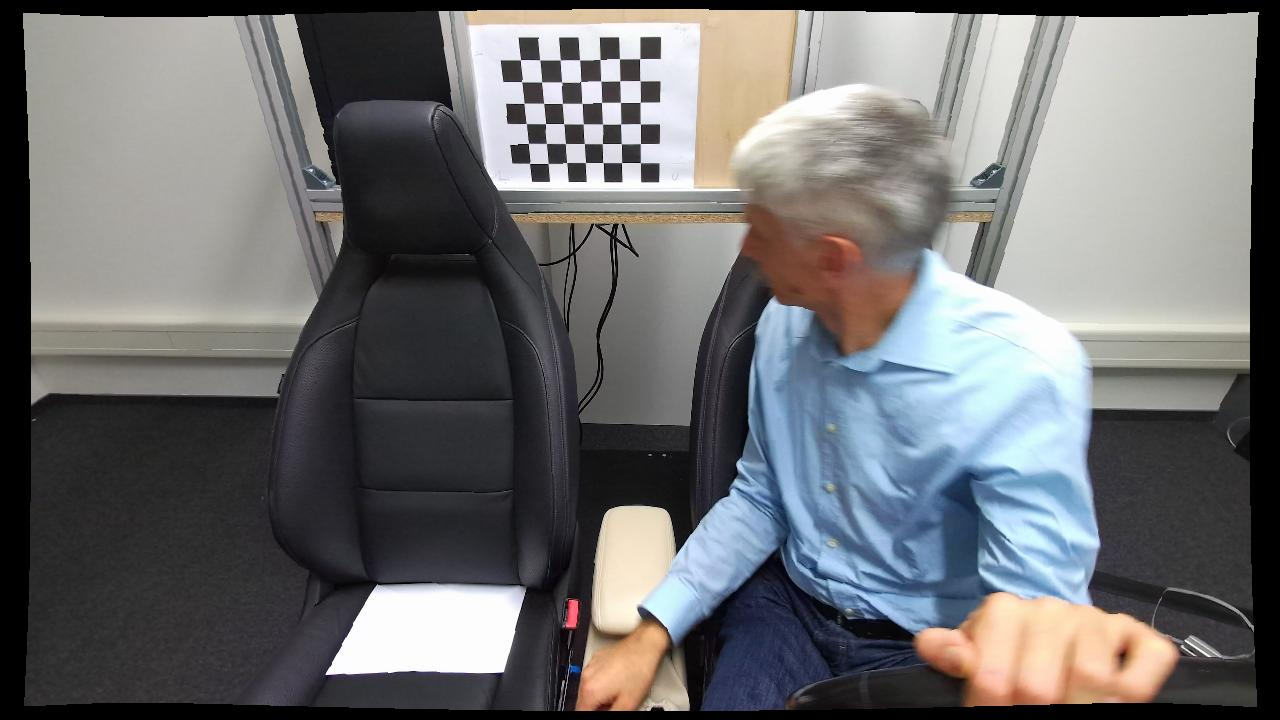Distracted: (691, 81, 1094, 706)
